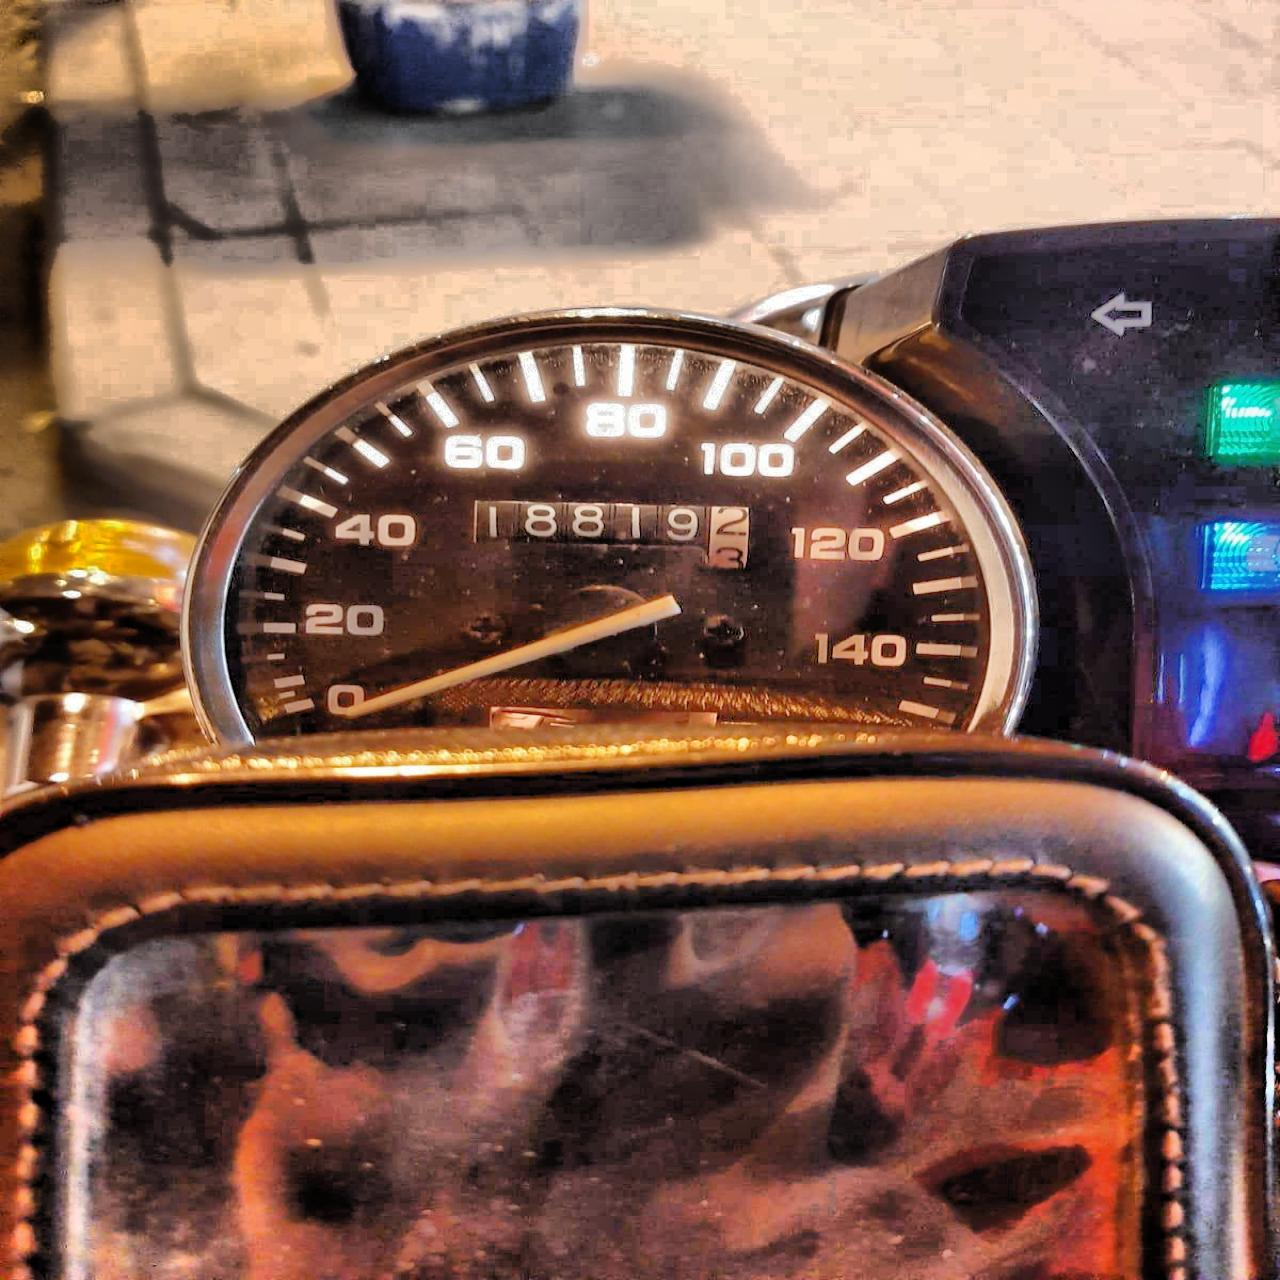1: (623, 501, 647, 541), (484, 503, 500, 538)
2: (710, 502, 753, 542)
3: (712, 545, 746, 569)
8: (524, 502, 558, 538), (570, 502, 604, 538)
9: (664, 506, 700, 542)
odometer: (464, 494, 769, 573)
